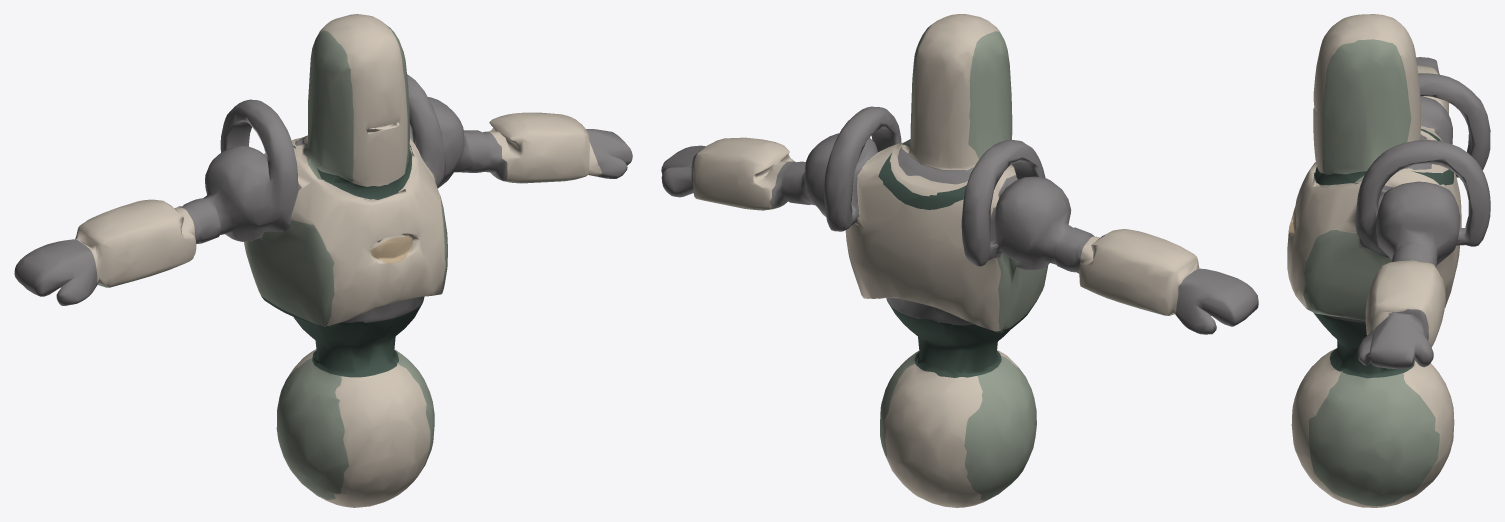
File: oracle.glb
The picture shows the model from 3 angles, left to right: view 1: azimuth 30°, elevation 25°; view 2: azimuth 150°, elevation 25°; view 3: azimuth 270°, elevation 25°; orthographic projection.
Visible parts, largest first — view 1: oracle; view 2: oracle; view 3: oracle.
Part boxes in pixels (bbox=[...]): oracle: bbox=[14, 14, 632, 507]; oracle: bbox=[661, 14, 1258, 507]; oracle: bbox=[1287, 14, 1490, 507].
Size of the model in its own units: 2.38 by 1.85 by 0.7068.
